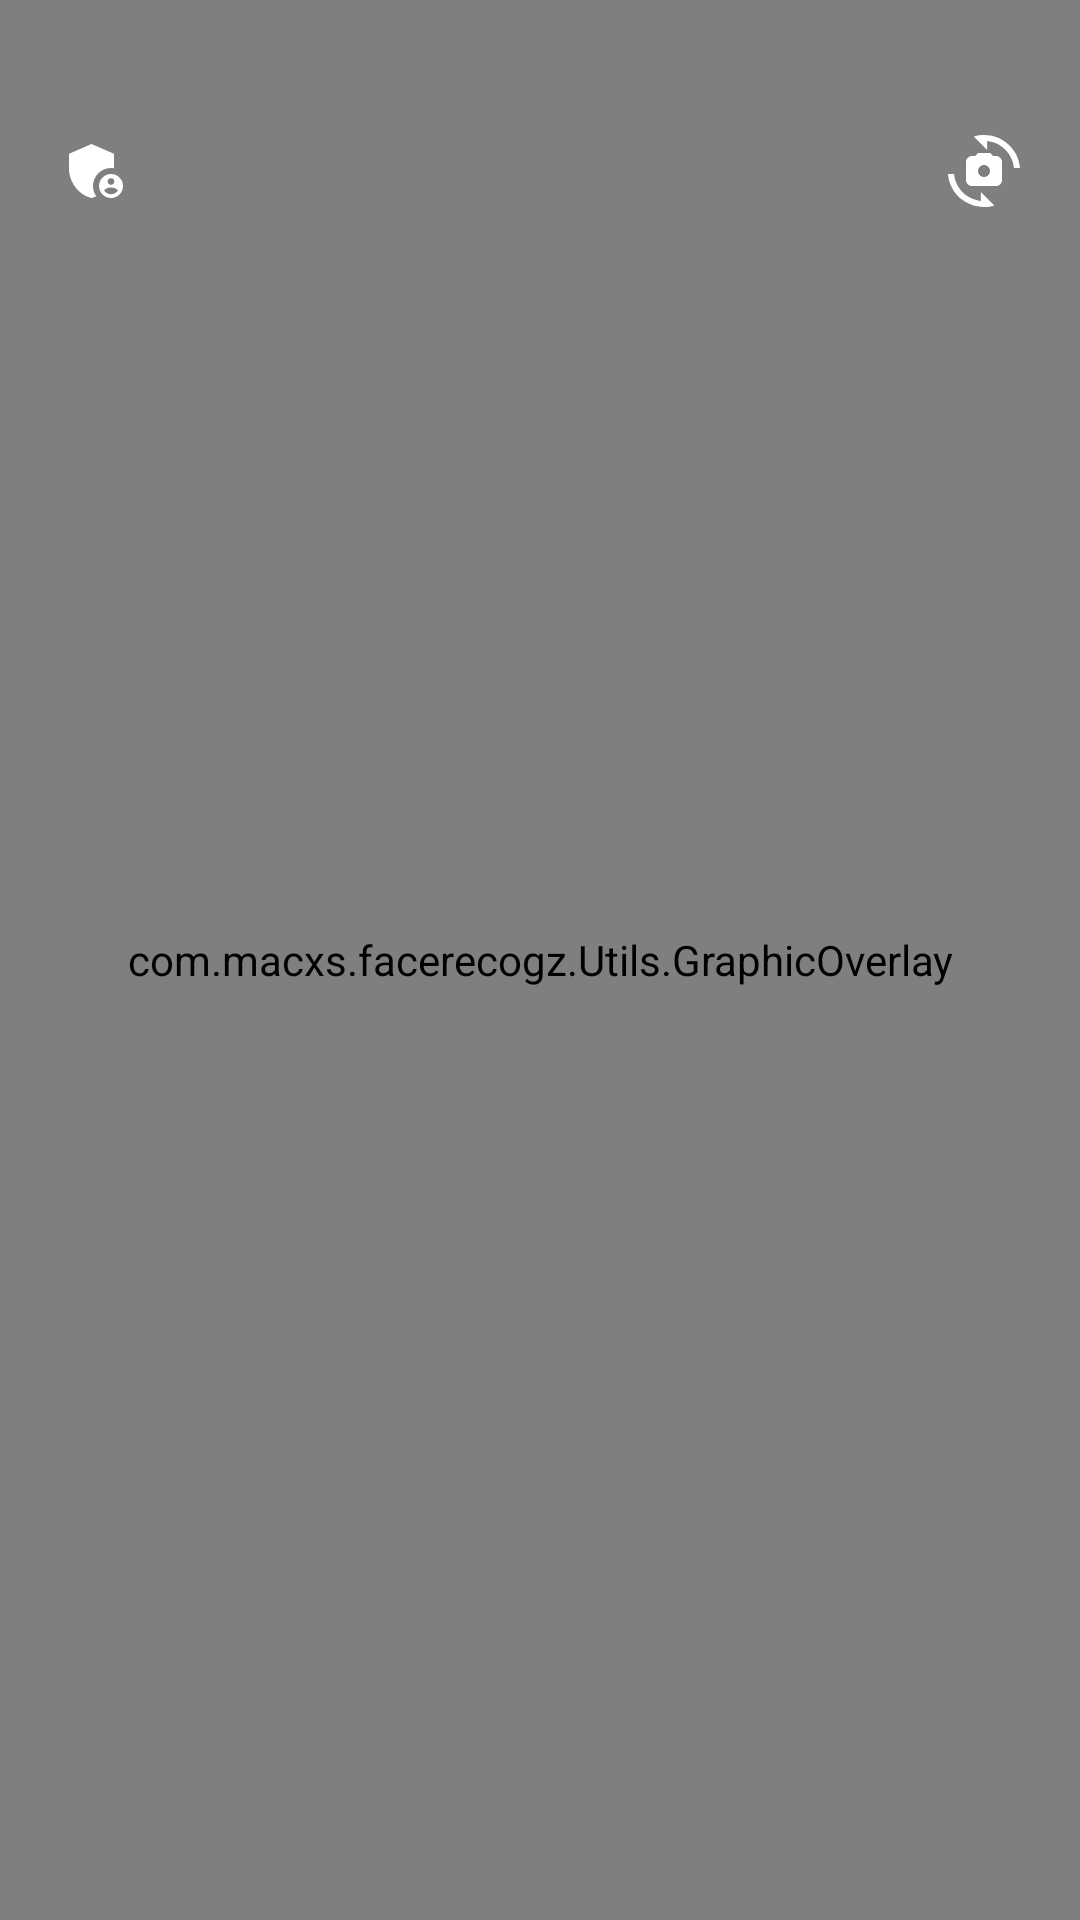

Where icons sit on this 1080×1920 app screen, as {"x1": x1, "y1": y1, "x2": x2, "y2": y2}:
admin panel settings: {"x1": 69, "y1": 144, "x2": 123, "y2": 198}
cameraswitch: {"x1": 948, "y1": 135, "x2": 1020, "y2": 207}
